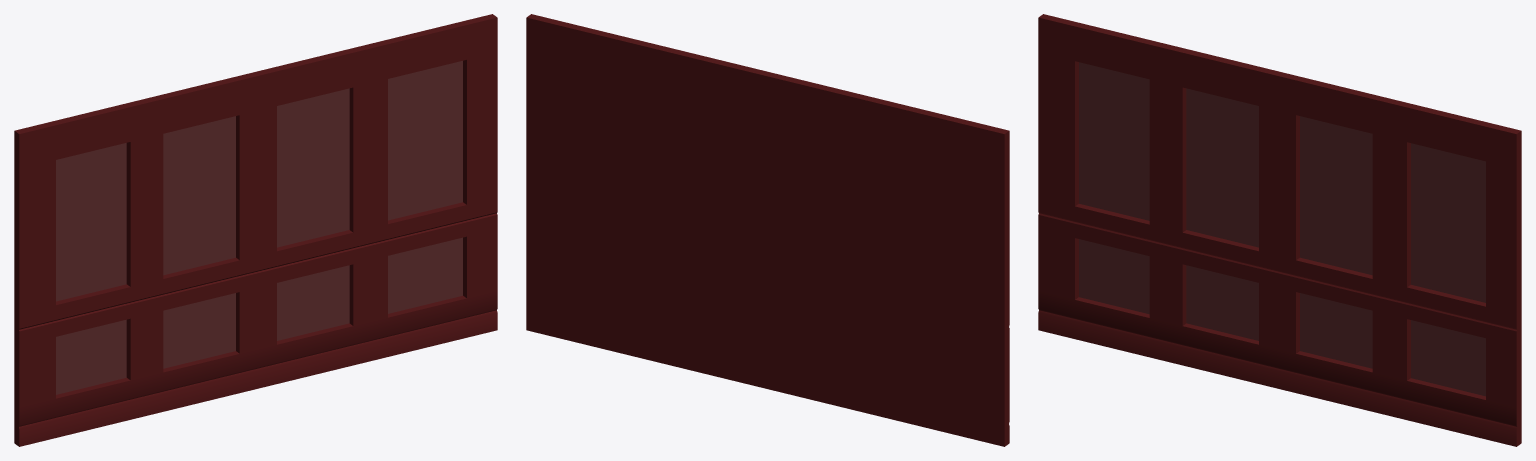
The model's file is Wall.fbx.
3 renders of one model, left to right at view 1: azimuth 30°, elevation 25°; view 2: azimuth 150°, elevation 25°; view 3: azimuth 330°, elevation 25°, orthographic.
Parts seen in each view (by area): view 1: Wall; view 2: Wall; view 3: Wall.
Boxes of the visible parts, <box> form: Wall: <box>14,14,497,446</box>; Wall: <box>526,14,1009,446</box>; Wall: <box>1038,14,1521,446</box>.
Size of the model in its own units: 400 by 250 by 7.
